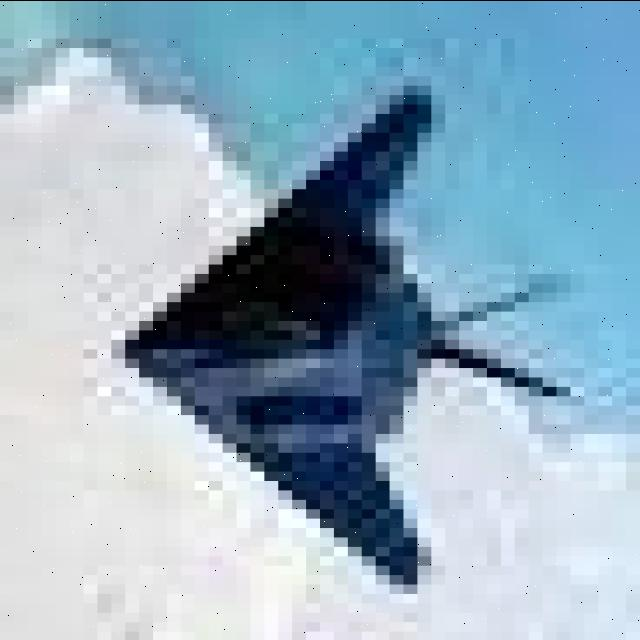F117: (78, 41, 594, 606)
